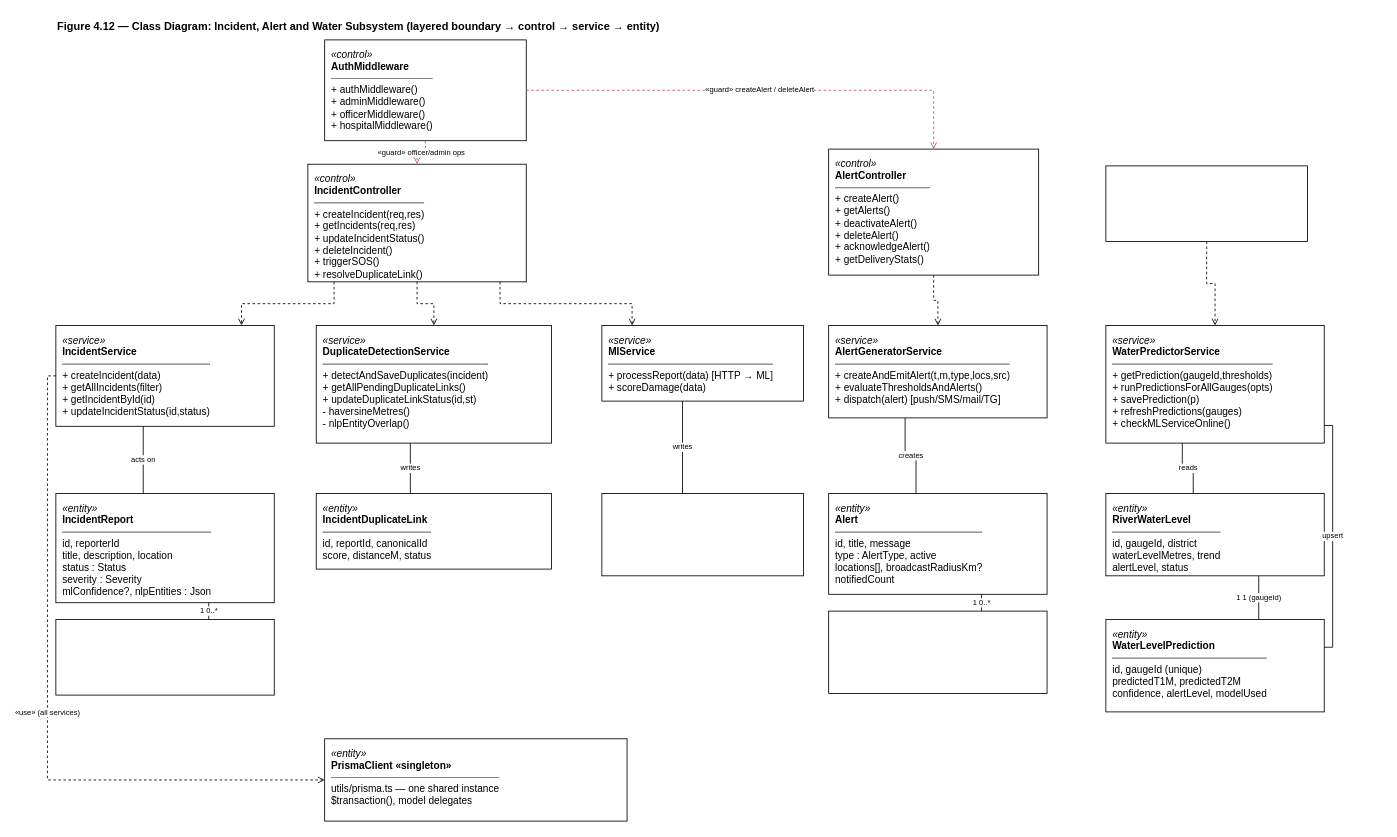
Image size: 1397x837. Some labels were removed from this diagram. Each missing label, with the centre of its shape:
"«boundary» waterRoutes / water-cron route handlers + hourly job" belongs at point 1206,203.
"«entity» IncidentHistory id, incidentId fromStatus, toStatus, note" belongs at point 164,657.
"«entity» MLLog id, incidentId model, prediction, confidence" belongs at point 702,534.
"«entity» Notification id, userId, alertId? title, body, read" belongs at point 937,651.
